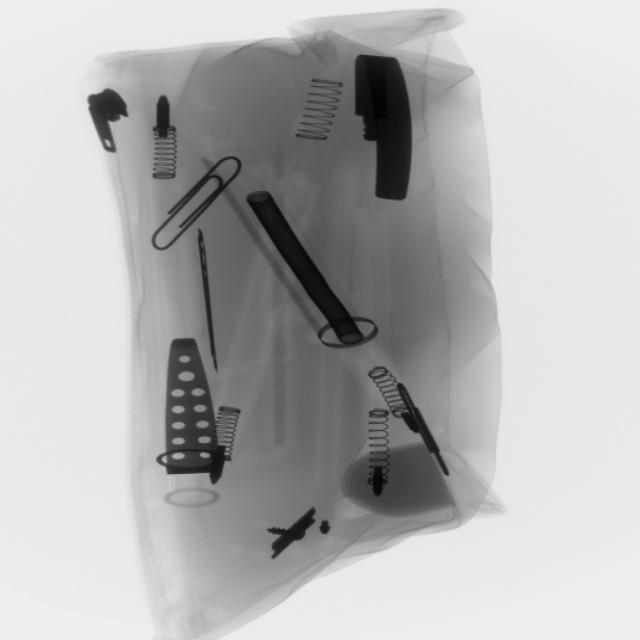SHURIKEN: (188, 229, 230, 381)
